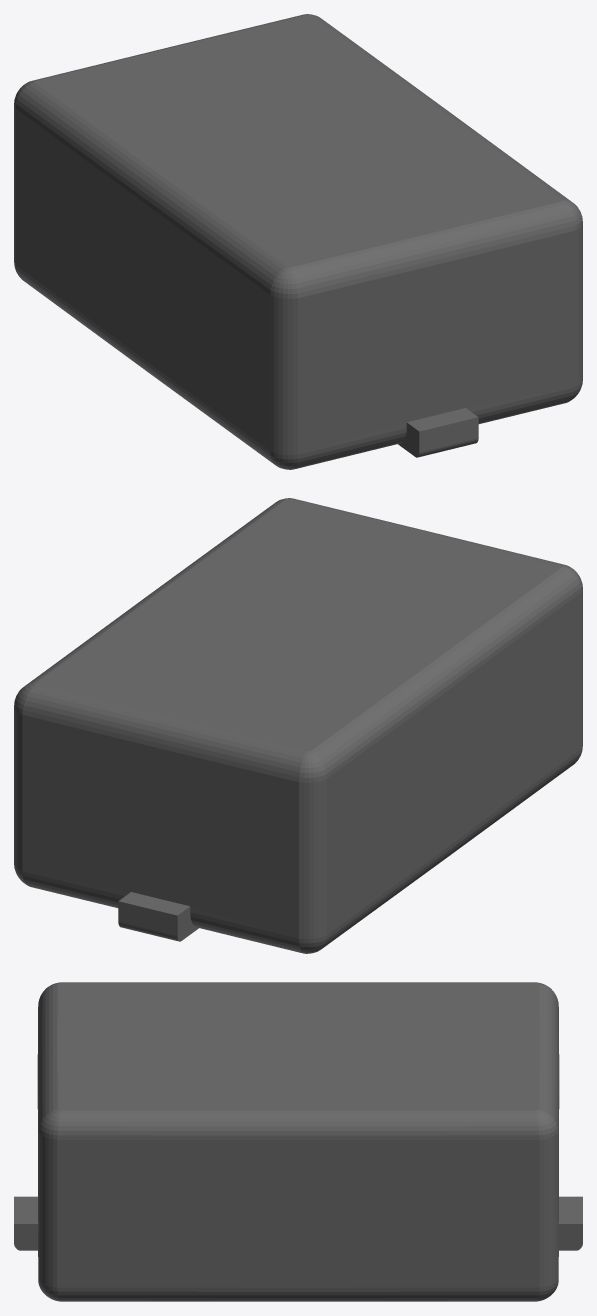
The model's file is Map _Hitbox_TMP.fbx.
3 renders of one model, top to bottom at view 1: azimuth 30°, elevation 25°; view 2: azimuth 150°, elevation 25°; view 3: azimuth 270°, elevation 25°, orthographic. The views are drawn at different scales.
Parts seen in each view (by area): view 1: HitBox; view 2: HitBox; view 3: HitBox.
Part boxes in pixels (left/top/right/bottom): HitBox: left=14, top=14, right=582, bottom=469; HitBox: left=14, top=498, right=582, bottom=953; HitBox: left=14, top=982, right=582, bottom=1301.
Size of the model in its own units: 1422 by 878 by 2377.
1 material, 1 textured.
